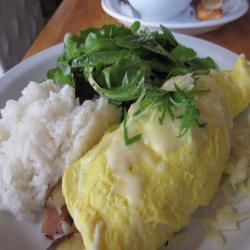omelette: (64, 75, 238, 250)
rice: (4, 81, 112, 211)
salad: (53, 21, 207, 99)
